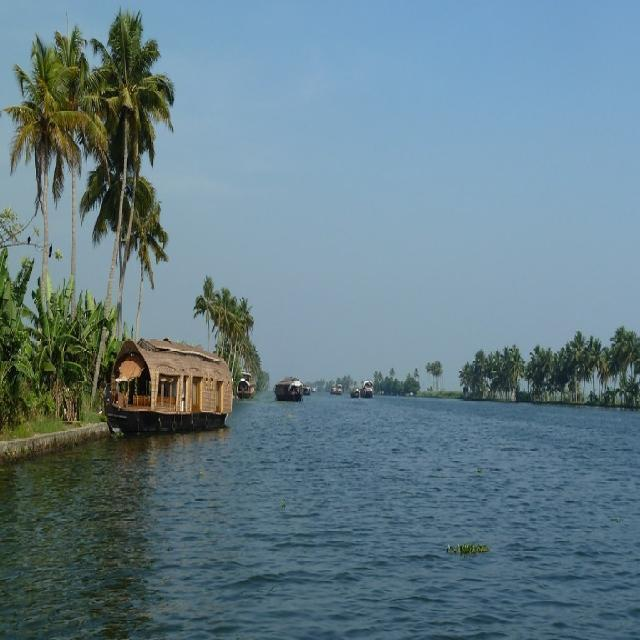Hyacinth: (448, 538, 491, 562)
boat: (102, 346, 240, 432), (277, 376, 307, 404), (234, 372, 253, 401), (362, 382, 378, 400), (330, 381, 343, 397), (348, 388, 364, 400)
